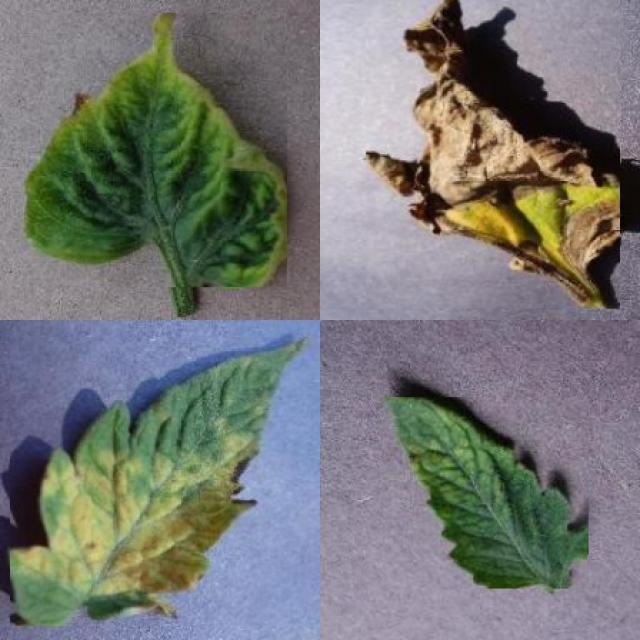Late Blight: (366, 0, 620, 309)
Leaf Mold: (11, 337, 308, 626)
Mosaic Virus: (382, 397, 589, 589)
Yellow Leaf Curl Virus: (22, 13, 288, 288)
